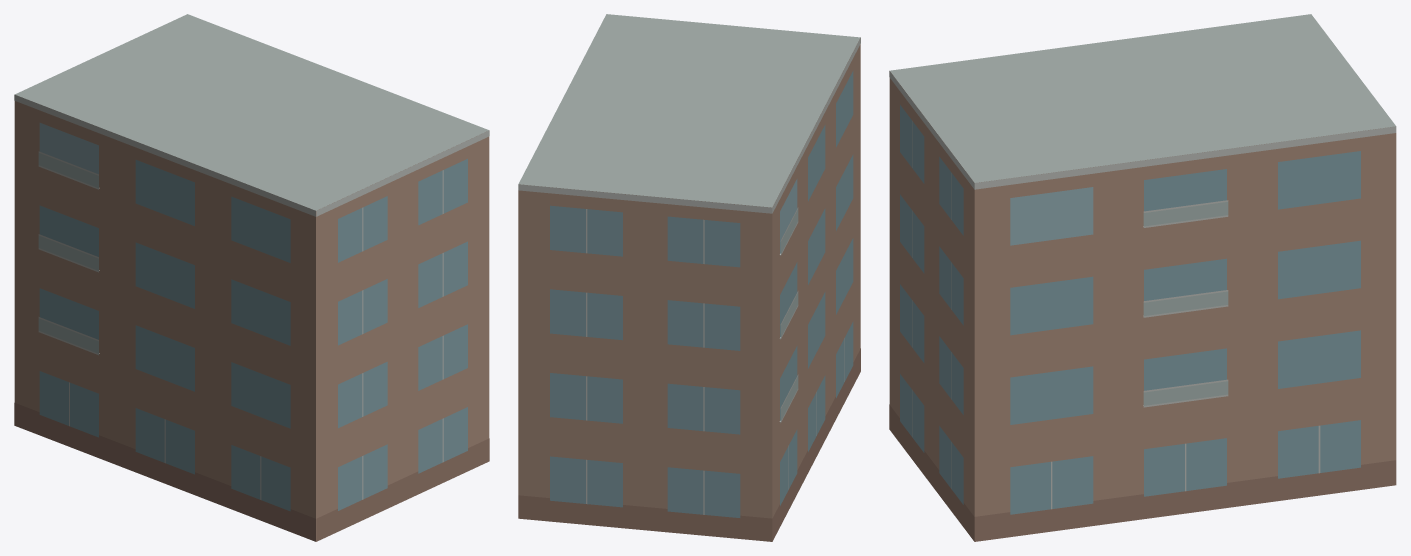
Rendered from survey-upis-32810584.glb.
3 renders of one model, left to right at view 1: azimuth 30°, elevation 25°; view 2: azimuth 150°, elevation 25°; view 3: azimuth 270°, elevation 25°, orthographic. The views are drawn at different scales.
Parts seen in each view (by area): view 1: survey-upis-32810584.tmp; view 2: survey-upis-32810584.tmp; view 3: survey-upis-32810584.tmp.
Boxes of the visible parts, left/top/right/bottom form: survey-upis-32810584.tmp: left=14, top=14, right=489, bottom=541; survey-upis-32810584.tmp: left=518, top=14, right=860, bottom=541; survey-upis-32810584.tmp: left=889, top=14, right=1396, bottom=541.
Size of the model in its own units: 13.34 by 13.2 by 16.91.
